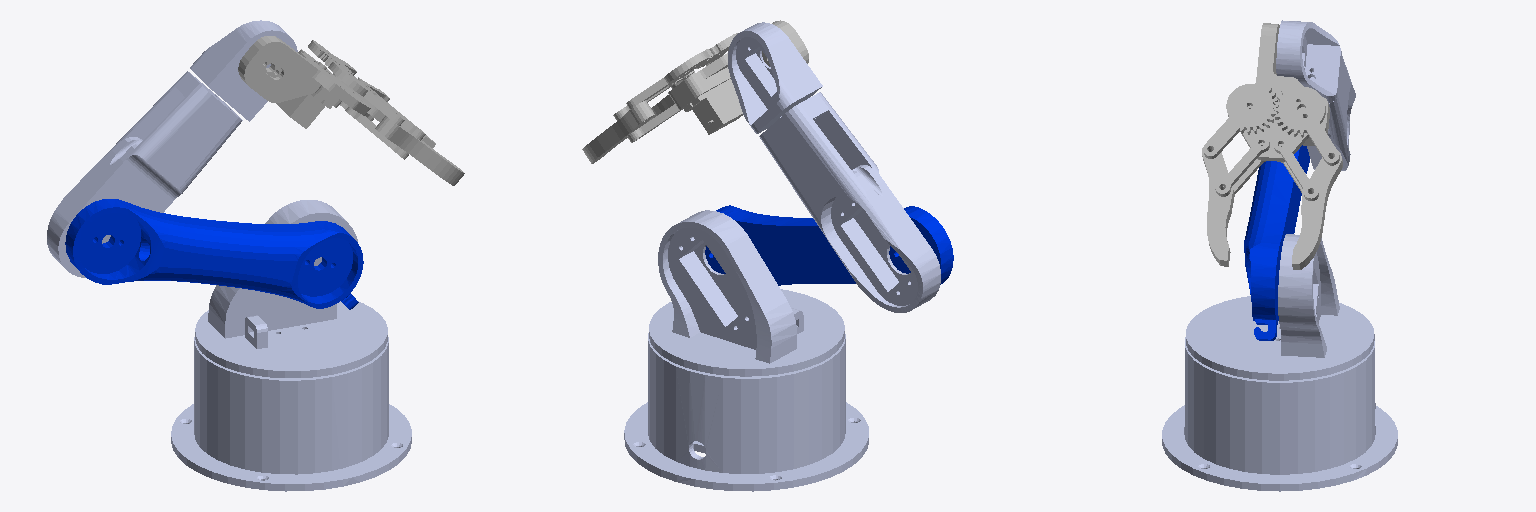
robot.urdf — RoboticArmFinalURDF.SLDASM:
<?xml version="1.0" encoding="utf-8"?>
<!-- This URDF was automatically created by SolidWorks to URDF Exporter! Originally created by [author] ([email redacted]) 
     Commit Version: 1.6.0-1-g15f4949  Build Version: 1.6.7594.29634
     For more information, please see http://wiki.ros.org/sw_urdf_exporter -->
<robot
  name="RoboticArmFinalURDF.SLDASM">
  <link
    name="base_link">
    <inertial>
      <origin
        xyz="-7.68725238451815E-09 0.0223035726629275 -0.000117196159259872"
        rpy="0 0 0" />
      <mass
        value="0.0960374647687131" />
      <inertia
        ixx="0.000137660900428952"
        ixy="-4.47337774478822E-12"
        ixz="6.84507669834107E-11"
        iyy="0.000207983638444363"
        iyz="-3.91396755618807E-06"
        izz="0.000127992374265441" />
    </inertial>
    <visual>
      <origin
        xyz="0 0 0"
        rpy="0 0 0" />
      <geometry>
        <mesh
          filename="package://RoboticArmFinalURDF.SLDASM/meshes/base_link.STL" />
      </geometry>
      <material
        name="">
        <color
          rgba="0.792156862745098 0.819607843137255 0.933333333333333 1" />
      </material>
    </visual>
    <collision>
      <origin
        xyz="0 0 0"
        rpy="0 0 0" />
      <geometry>
        <mesh
          filename="package://RoboticArmFinalURDF.SLDASM/meshes/base_link.STL" />
      </geometry>
    </collision>
  </link>
  <link
    name="Link_1">
    <inertial>
      <origin
        xyz="-0.00643461830391594 0.0172894164537123 -0.00137199474310693"
        rpy="0 0 0" />
      <mass
        value="0.0680383193949222" />
      <inertia
        ixx="5.81331983559237E-05"
        ixy="5.17766059437661E-06"
        ixz="-6.41757849795515E-07"
        iyy="5.46763949062911E-05"
        iyz="6.24275294196728E-06"
        izz="4.50177342282271E-05" />
    </inertial>
    <visual>
      <origin
        xyz="0 0 0"
        rpy="0 0 0" />
      <geometry>
        <mesh
          filename="package://RoboticArmFinalURDF.SLDASM/meshes/Link_1.STL" />
      </geometry>
      <material
        name="">
        <color
          rgba="0.792156862745098 0.819607843137255 0.933333333333333 1" />
      </material>
    </visual>
    <collision>
      <origin
        xyz="0 0 0"
        rpy="0 0 0" />
      <geometry>
        <mesh
          filename="package://RoboticArmFinalURDF.SLDASM/meshes/Link_1.STL" />
      </geometry>
    </collision>
  </link>
  <joint
    name="joint0"
    type="continuous">
    <origin
      xyz="0 0 0.057"
      rpy="1.5707963267949 0 -1.70008950174165" />
    <parent
      link="base_link" />
    <child
      link="Link_1" />
    <axis
      xyz="0 1 0" />
  </joint>
  <link
    name="Link_2">
    <inertial>
      <origin
        xyz="-0.000129917894307566 0.0585889748371736 0.00596910140378169"
        rpy="0 0 0" />
      <mass
        value="0.0643952062577739" />
      <inertia
        ixx="0.00010704064713953"
        ixy="-8.66170766192282E-10"
        ixz="2.17042389149384E-10"
        iyy="9.11014232874422E-06"
        iyz="2.40320563064038E-07"
        izz="0.000111847051750703" />
    </inertial>
    <visual>
      <origin
        xyz="0 0 0"
        rpy="0 0 0" />
      <geometry>
        <mesh
          filename="package://RoboticArmFinalURDF.SLDASM/meshes/Link_2.STL" />
      </geometry>
      <material
        name="">
        <color
          rgba="0 0.254901960784314 0.92156862745098 1" />
      </material>
    </visual>
    <collision>
      <origin
        xyz="0 0 0"
        rpy="0 0 0" />
      <geometry>
        <mesh
          filename="package://RoboticArmFinalURDF.SLDASM/meshes/Link_2.STL" />
      </geometry>
    </collision>
  </link>
  <joint
    name="joint1"
    type="continuous">
    <origin
      xyz="0 0.040276480175933 -0.0139185063019886"
      rpy="1.5707963267949 0.279843773254232 1.5707963267949" />
    <parent
      link="Link_1" />
    <child
      link="Link_2" />
    <axis
      xyz="0 0 1" />
  </joint>
  <link
    name="Link_3">
    <inertial>
      <origin
        xyz="2.78406776982598E-05 0.0392852876995278 0.0124088574191166"
        rpy="0 0 0" />
      <mass
        value="0.0502682622408893" />
      <inertia
        ixx="5.46008164037692E-05"
        ixy="-6.95726497999282E-08"
        ixz="-4.92696357506361E-11"
        iyy="9.28677666246469E-06"
        iyz="-2.87528254238966E-07"
        izz="5.81489570583603E-05" />
    </inertial>
    <visual>
      <origin
        xyz="0 0 0"
        rpy="0 0 0" />
      <geometry>
        <mesh
          filename="package://RoboticArmFinalURDF.SLDASM/meshes/Link_3.STL" />
      </geometry>
      <material
        name="">
        <color
          rgba="0.792156862745098 0.819607843137255 0.933333333333333 1" />
      </material>
    </visual>
    <collision>
      <origin
        xyz="0 0 0"
        rpy="0 0 0" />
      <geometry>
        <mesh
          filename="package://RoboticArmFinalURDF.SLDASM/meshes/Link_3.STL" />
      </geometry>
    </collision>
  </link>
  <joint
    name="joint2"
    type="continuous">
    <origin
      xyz="0 0.12 0"
      rpy="3.14159265358979 0 1.04149559388931" />
    <parent
      link="Link_2" />
    <child
      link="Link_3" />
    <axis
      xyz="0 0 1" />
  </joint>
  <link
    name="Link_4">
    <inertial>
      <origin
        xyz="0.00504601384504058 0.0369133443513942 -0.00526460478781959"
        rpy="0 0 0" />
      <mass
        value="0.0164994774371153" />
      <inertia
        ixx="3.91220064665289E-06"
        ixy="1.15332740113581E-08"
        ixz="-3.99351888751122E-09"
        iyy="2.61247401048814E-06"
        iyz="5.75784685648565E-07"
        izz="5.02236310727864E-06" />
    </inertial>
    <visual>
      <origin
        xyz="0 0 0"
        rpy="0 0 0" />
      <geometry>
        <mesh
          filename="package://RoboticArmFinalURDF.SLDASM/meshes/Link_4.STL" />
      </geometry>
      <material
        name="">
        <color
          rgba="0.792156862745098 0.819607843137255 0.933333333333333 1" />
      </material>
    </visual>
    <collision>
      <origin
        xyz="0 0 0"
        rpy="0 0 0" />
      <geometry>
        <mesh
          filename="package://RoboticArmFinalURDF.SLDASM/meshes/Link_4.STL" />
      </geometry>
    </collision>
  </link>
  <joint
    name="joint3"
    type="continuous">
    <origin
      xyz="-0.00530000000000022 0.0725277706940939 0.0125000000000004"
      rpy="0 0 0" />
    <parent
      link="Link_3" />
    <child
      link="Link_4" />
    <axis
      xyz="0 1 0" />
  </joint>
  <link
    name="End_effector">
    <inertial>
      <origin
        xyz="-0.0106496669276151 0.00865268061193392 0.0489386267179806"
        rpy="0 0 0" />
      <mass
        value="0.0420474406625632" />
      <inertia
        ixx="1.18088861549434E-05"
        ixy="-3.87366189241723E-07"
        ixz="-1.38624153727327E-06"
        iyy="1.32292970089482E-05"
        iyz="-1.36413004494688E-06"
        izz="3.99155771372674E-06" />
    </inertial>
    <visual>
      <origin
        xyz="0 0 0"
        rpy="0 0 0" />
      <geometry>
        <mesh
          filename="package://RoboticArmFinalURDF.SLDASM/meshes/End_effector.STL" />
      </geometry>
      <material
        name="">
        <color
          rgba="0.752941176470588 0.752941176470588 0.752941176470588 1" />
      </material>
    </visual>
    <collision>
      <origin
        xyz="0 0 0"
        rpy="0 0 0" />
      <geometry>
        <mesh
          filename="package://RoboticArmFinalURDF.SLDASM/meshes/End_effector.STL" />
      </geometry>
    </collision>
  </link>
  <joint
    name="endeffectorjoint"
    type="continuous">
    <origin
      xyz="0.00499999999999995 0.0470722293044142 0"
      rpy="-1.10714871779409 -1.57079631189374 1.05634501373587" />
    <parent
      link="Link_4" />
    <child
      link="End_effector" />
    <axis
      xyz="1 0 0" />
  </joint>
</robot>

--- Facts derived from the render (not from the file) ---
3 views of the same robot in one strip: view 1: azimuth 30°, elevation 25°; view 2: azimuth 150°, elevation 25°; view 3: azimuth 270°, elevation 25° (orthographic).
Robot: RoboticArmFinalURDF.SLDASM — 6 links, 5 joints (5 continuous); root link base_link; default pose: every joint at zero.
Links seen in each view (by area): view 1: base_link, Link_2, Link_1, Link_3, End_effector, Link_4; view 2: base_link, Link_1, Link_3, End_effector, Link_2, Link_4; view 3: base_link, End_effector, Link_1, Link_2, Link_4, Link_3.
Boxes of the visible links, box(x1,y1,x2,y2) form: base_link: box(171, 337, 411, 491); Link_2: box(65, 199, 363, 309); Link_1: box(195, 200, 387, 377); Link_3: box(47, 71, 242, 277); End_effector: box(238, 36, 464, 185); Link_4: box(190, 20, 297, 121); base_link: box(624, 333, 868, 491); Link_1: box(649, 210, 844, 376); Link_3: box(759, 92, 940, 312); End_effector: box(582, 20, 808, 163); Link_2: box(705, 205, 953, 285); Link_4: box(728, 22, 822, 133); base_link: box(1162, 337, 1397, 491); End_effector: box(1202, 23, 1342, 269); Link_1: box(1186, 234, 1374, 380); Link_2: box(1244, 145, 1309, 340); Link_4: box(1276, 20, 1341, 102); Link_3: box(1307, 56, 1355, 170).
Size in the robot's own frame: 0.2112 by 0.1213 by 0.2303 metres.
6 mesh visuals loaded from 6 distinct referenced files (6 binary STL).